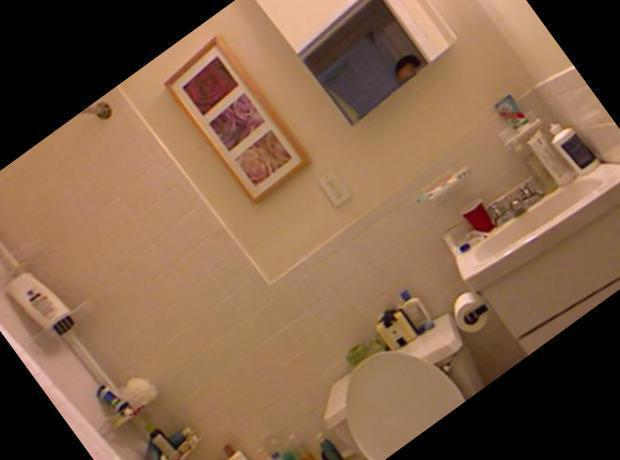Lavamanos: (452, 141, 614, 280)
Sanitario: (311, 309, 488, 460)
